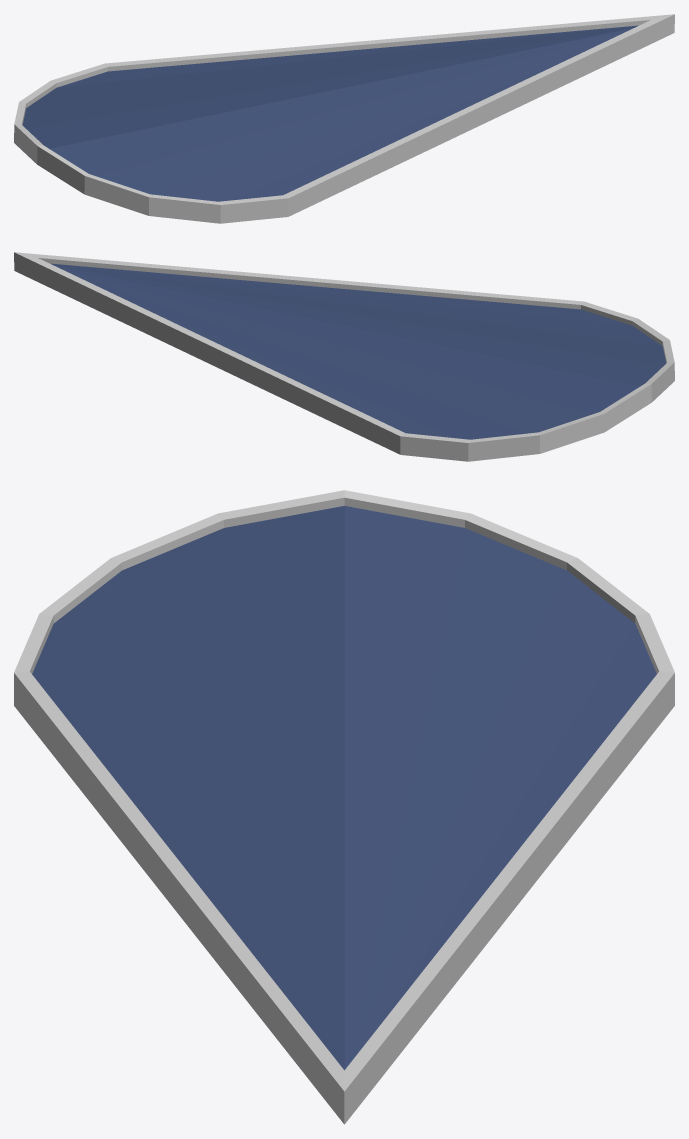
The model's file is Shield_3_a_bl.fbx.
3 renders of one model, top to bottom at view 1: azimuth 30°, elevation 25°; view 2: azimuth 150°, elevation 25°; view 3: azimuth 270°, elevation 25°, orthographic. The views are drawn at different scales.
Parts seen in each view (by area): view 1: Circle.332, Circle.331; view 2: Circle.332, Circle.331; view 3: Circle.332, Circle.331.
Boxes of the visible parts, left/top/right/bottom form: Circle.332: left=22, top=25, right=638, bottom=201; Circle.331: left=14, top=14, right=674, bottom=223; Circle.332: left=50, top=263, right=666, bottom=439; Circle.331: left=14, top=252, right=674, bottom=461; Circle.332: left=32, top=506, right=656, bottom=1070; Circle.331: left=14, top=490, right=674, bottom=1124.
Bounding box in the file's own units: 147 × 16.22 × 73.5.
